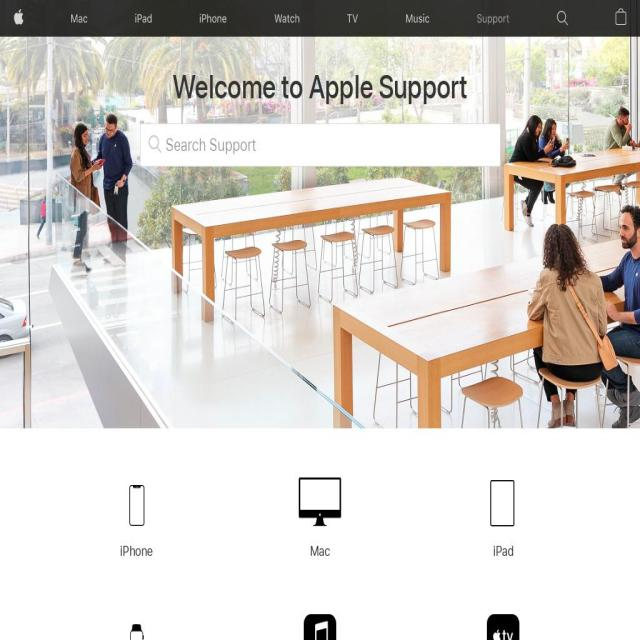button: (115, 469, 158, 562), (298, 469, 341, 562), (482, 469, 525, 562), (470, 0, 516, 37), (115, 601, 158, 640), (298, 601, 341, 640), (482, 601, 525, 640), (193, 0, 234, 37), (268, 0, 306, 37), (400, 0, 436, 37), (129, 0, 159, 37), (65, 0, 94, 37), (341, 0, 365, 37), (608, 0, 632, 37), (8, 0, 30, 37)
field: (140, 123, 500, 167)
heading: (140, 69, 500, 104)
image: (115, 469, 158, 527), (298, 469, 341, 527), (482, 469, 525, 527), (115, 601, 158, 640), (298, 601, 341, 640), (482, 601, 525, 640), (139, 123, 165, 160), (550, 0, 574, 37)
text: (120, 542, 154, 559), (310, 542, 330, 559), (494, 542, 514, 559)
